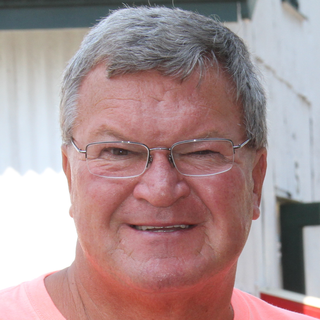eye: (96, 141, 142, 164)
